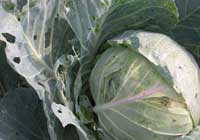cabbage: (85, 32, 199, 139)
